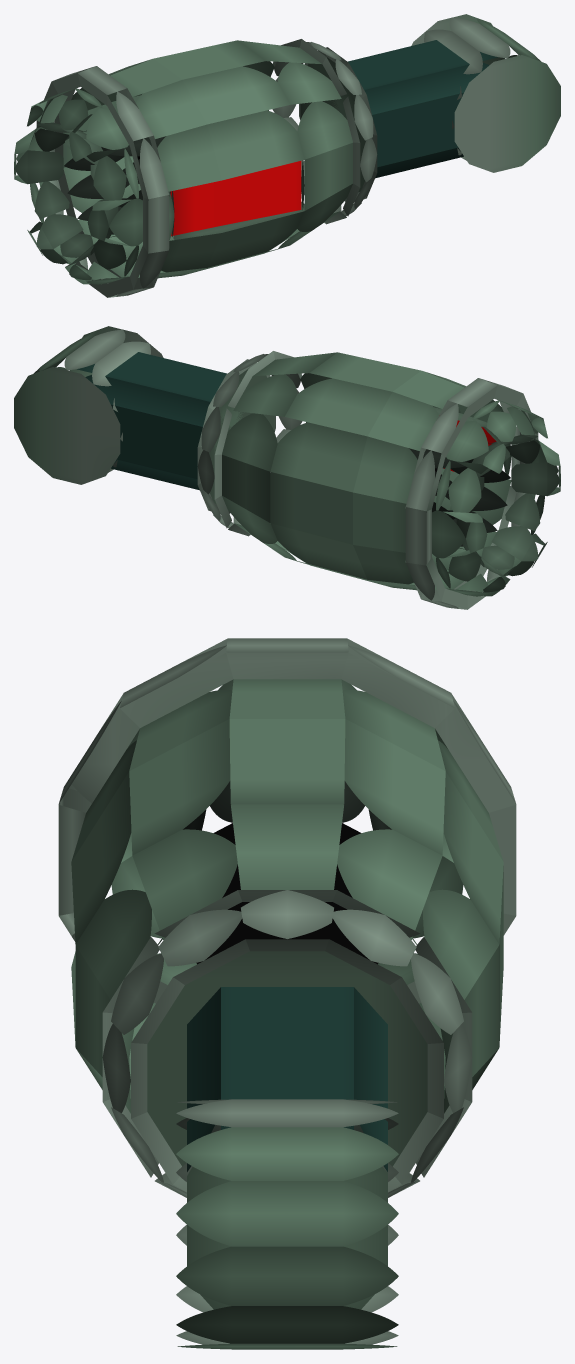
File: BusterBomber Left Arm.obj
3 views of the same model, one above another, from view 1: azimuth 30°, elevation 25°; view 2: azimuth 150°, elevation 25°; view 3: azimuth 270°, elevation 25° (orthographic). The views are drawn at different scales.
Visible parts, largest first — view 1: cylinder, Arm; view 2: cylinder, Arm; view 3: cylinder, Arm.
Part boxes in pixels (left/top/right/bottom): cylinder: left=14, top=14, right=560, bottom=297; Arm: left=327, top=40, right=504, bottom=178; cylinder: left=14, top=326, right=560, bottom=609; Arm: left=70, top=352, right=247, bottom=490; cylinder: left=58, top=638, right=516, bottom=1349; Arm: left=187, top=987, right=387, bottom=1309.
Size of the model in its own units: 0.6244 by 0.2567 by 0.2567.
1 material, 1 textured.
